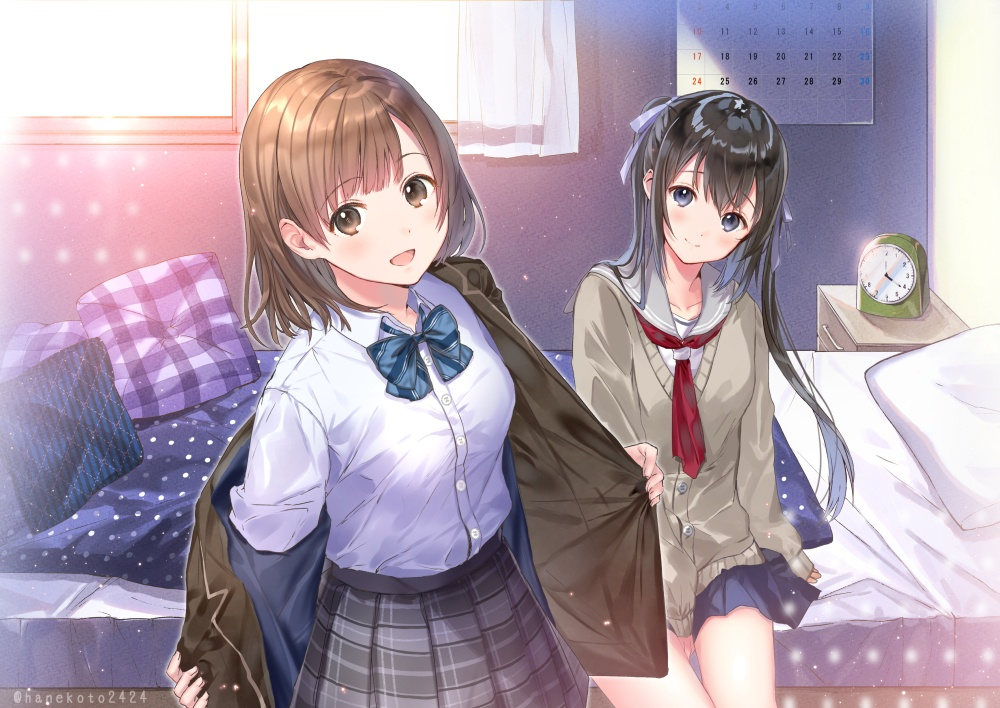纸片人正脸: (236, 57, 481, 289), (628, 87, 790, 271)
